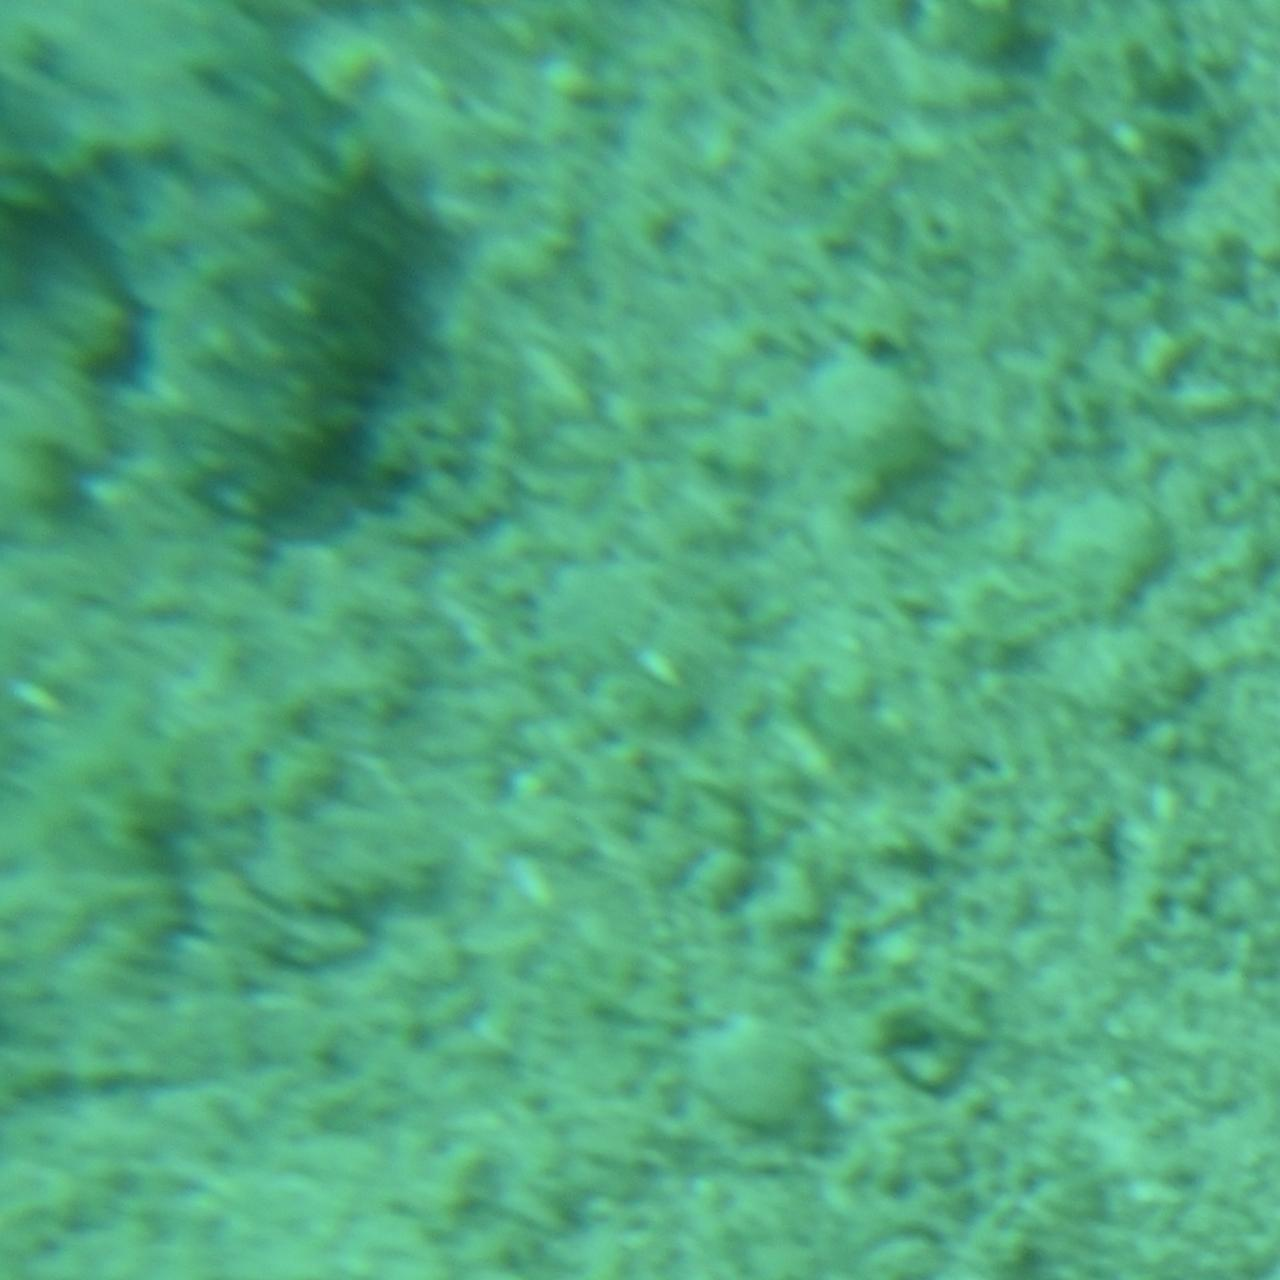Holothuria tubulosa: (0, 0, 463, 520)
